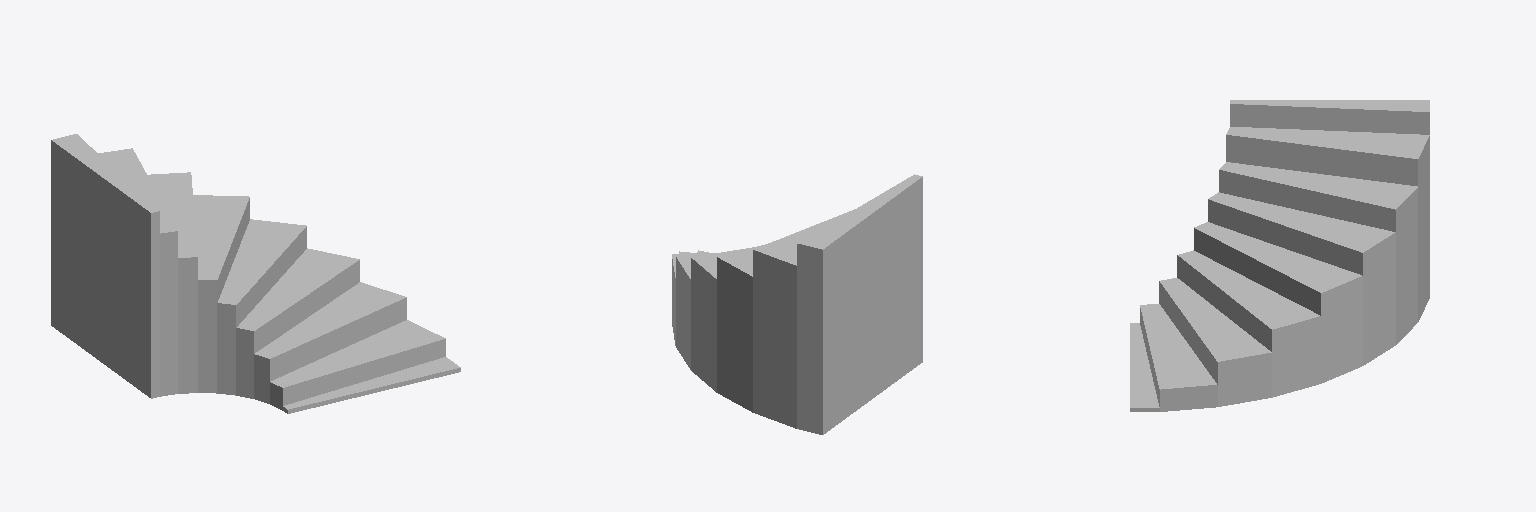
File: 1_floor_steps_curved.obj
The picture shows the model from 3 angles: view 1: azimuth 30°, elevation 25°; view 2: azimuth 150°, elevation 25°; view 3: azimuth 270°, elevation 25°; orthographic projection.
Visible parts, largest first — view 1: object1; view 2: object1; view 3: object1.
Part boxes in pixels (x1,y1,x2,y2): object1: (51, 134, 460, 413); object1: (672, 174, 922, 434); object1: (1130, 100, 1429, 411).
Size of the model in its own units: 1.5 by 1.02 by 1.5.